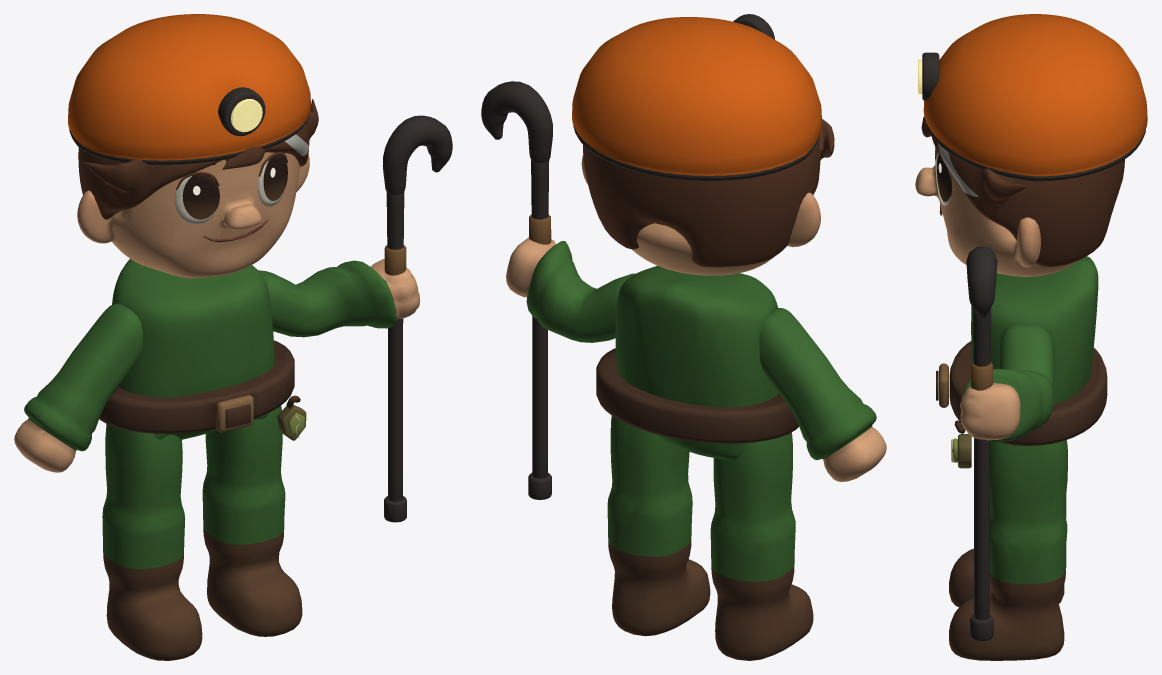
Rendered from PIP_GREEN.hi.glb.
3 renders of one model, left to right at view 1: azimuth 30°, elevation 25°; view 2: azimuth 150°, elevation 25°; view 3: azimuth 270°, elevation 25°, orthographic. The views are drawn at different scales.
Visible parts, largest first — view 1: body (×2), legL, legR, armR, armL; view 2: body, legL, legR, armR, armL; view 3: body, legR, armR, legL.
Boxes of the visible parts, x1,y1,x2,y2 form: body (×2): (67,14,318,440); legL: (102,424,202,660); legR: (202,405,302,636); armR: (258,115,452,522); armL: (14,303,143,472); body: (572,14,834,459); legL: (710,432,813,660); legR: (607,416,710,636); armR: (481,81,635,499); armL: (759,308,886,481); body: (915,14,1147,468); legR: (949,440,1067,660); armR: (960,246,1053,640); legL: (949,496,1066,607).
Bounding box in the file's own units: 0.7218 × 1 × 0.3544.
